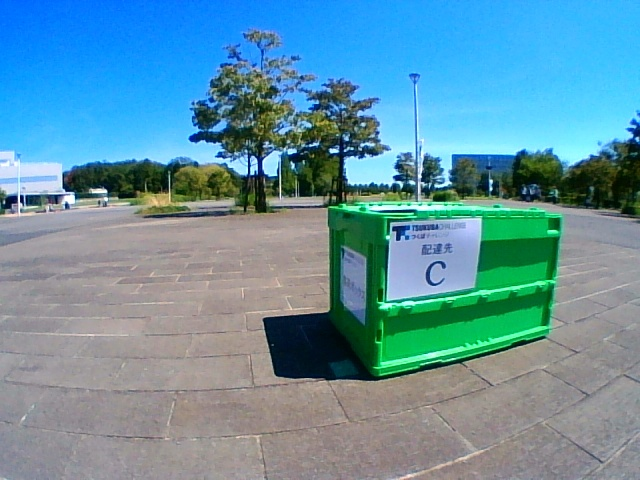green_box: (328, 202, 562, 375)
tag_c: (396, 223, 472, 289)
